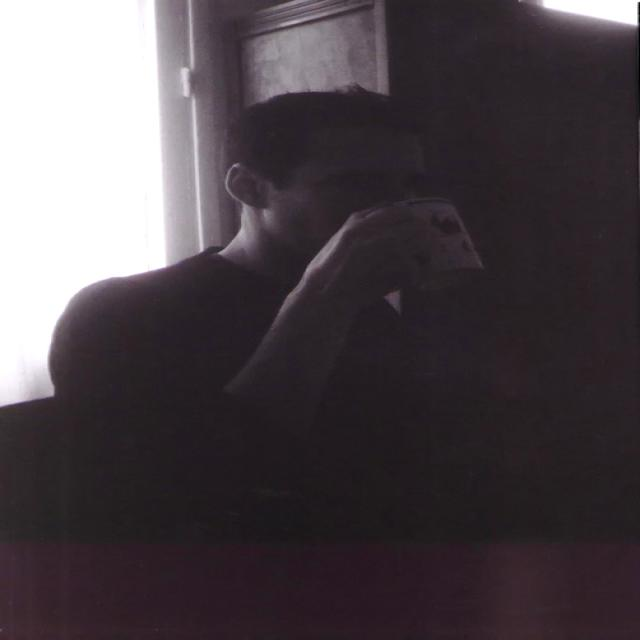Cup: (394, 199, 495, 288)
People: (50, 48, 551, 624)
